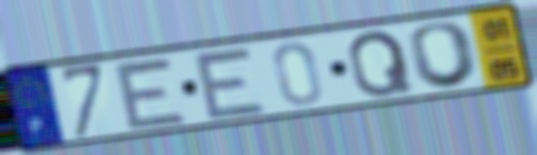0: (271, 40, 326, 108)
7: (59, 61, 110, 141)
E: (110, 55, 192, 132), (189, 45, 271, 122)
O: (406, 19, 484, 91)
Q: (346, 27, 416, 100)
